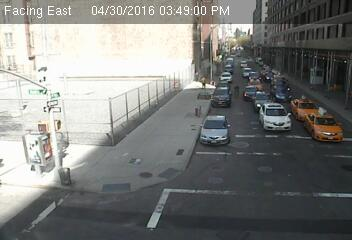neg: (41, 60, 76, 106), (109, 100, 136, 136), (31, 77, 54, 107), (161, 122, 173, 137), (99, 82, 106, 91)
pos: (194, 73, 209, 93), (227, 80, 242, 100)
